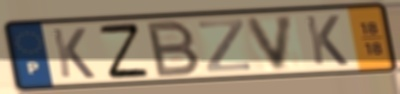B: (145, 18, 204, 79)
K: (302, 13, 352, 67), (49, 26, 98, 80)
V: (243, 13, 298, 73)
Z: (96, 21, 152, 81), (196, 17, 253, 74)
